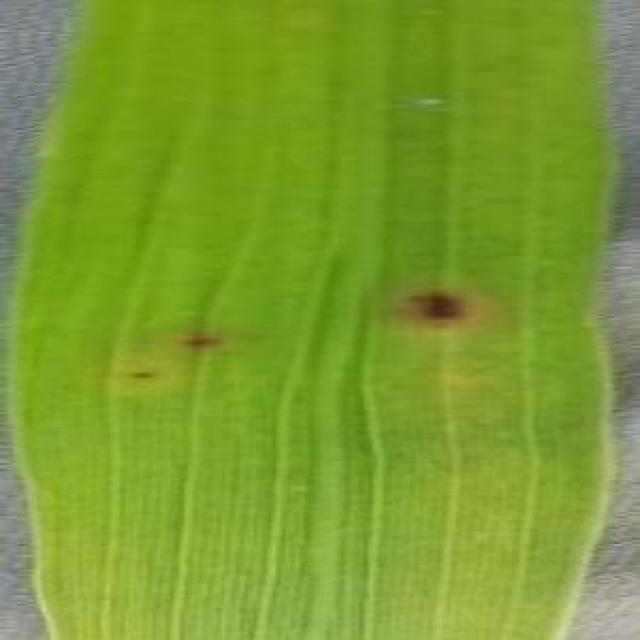brownspots: (403, 284, 472, 322), (115, 365, 171, 399), (175, 322, 220, 350)
